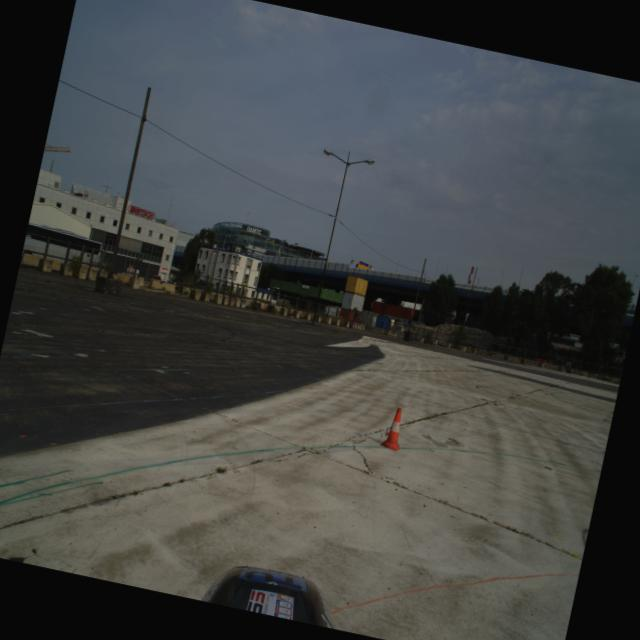orange_cone: (378, 405, 407, 451)
